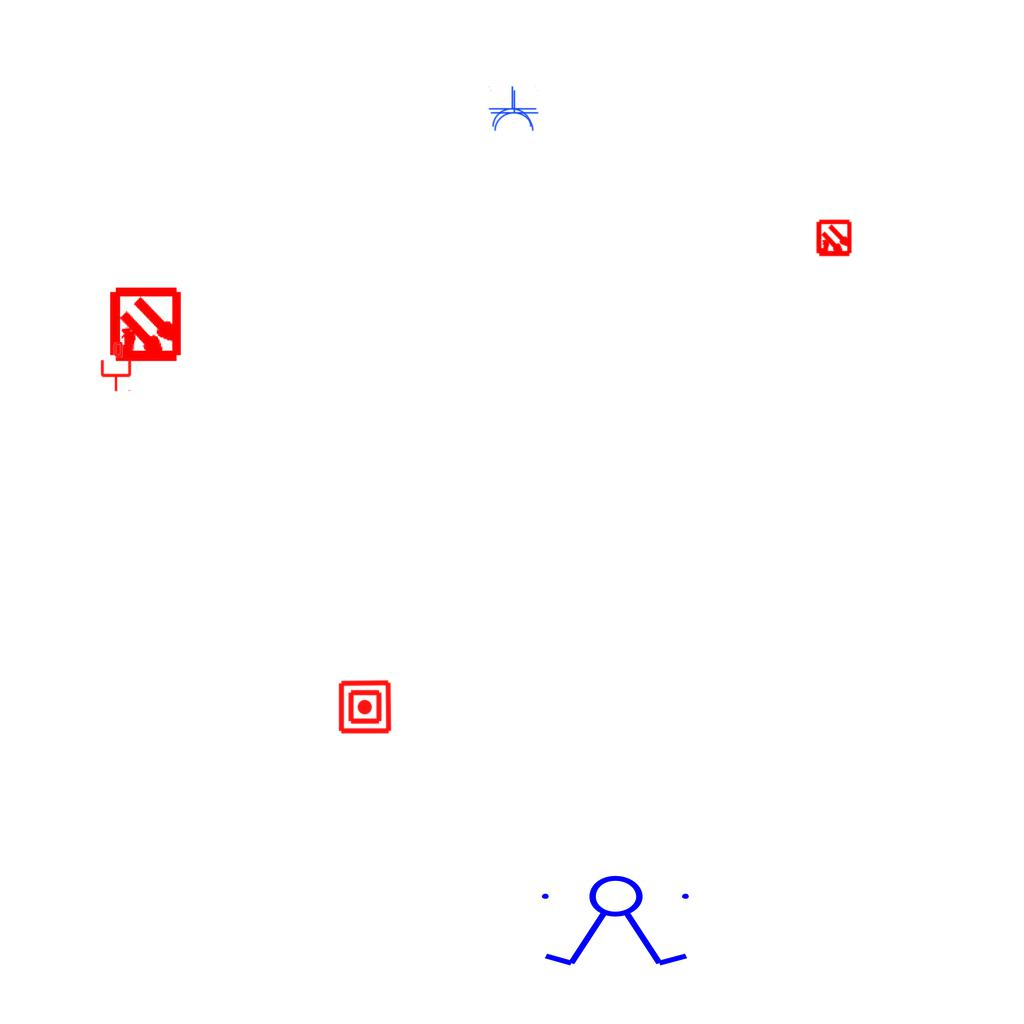Datenanschluss_einfach: (99, 342, 133, 392)
NAM-Nichtautomatischer_Melder: (337, 679, 393, 735)
OT_Multisensormelder_(Kombination_RMO_WMD): (89, 270, 202, 383), (806, 211, 862, 267)
Schukosteckdose_einfach: (487, 86, 537, 129), (489, 90, 539, 133)
Serienschalter: (533, 874, 701, 970)
